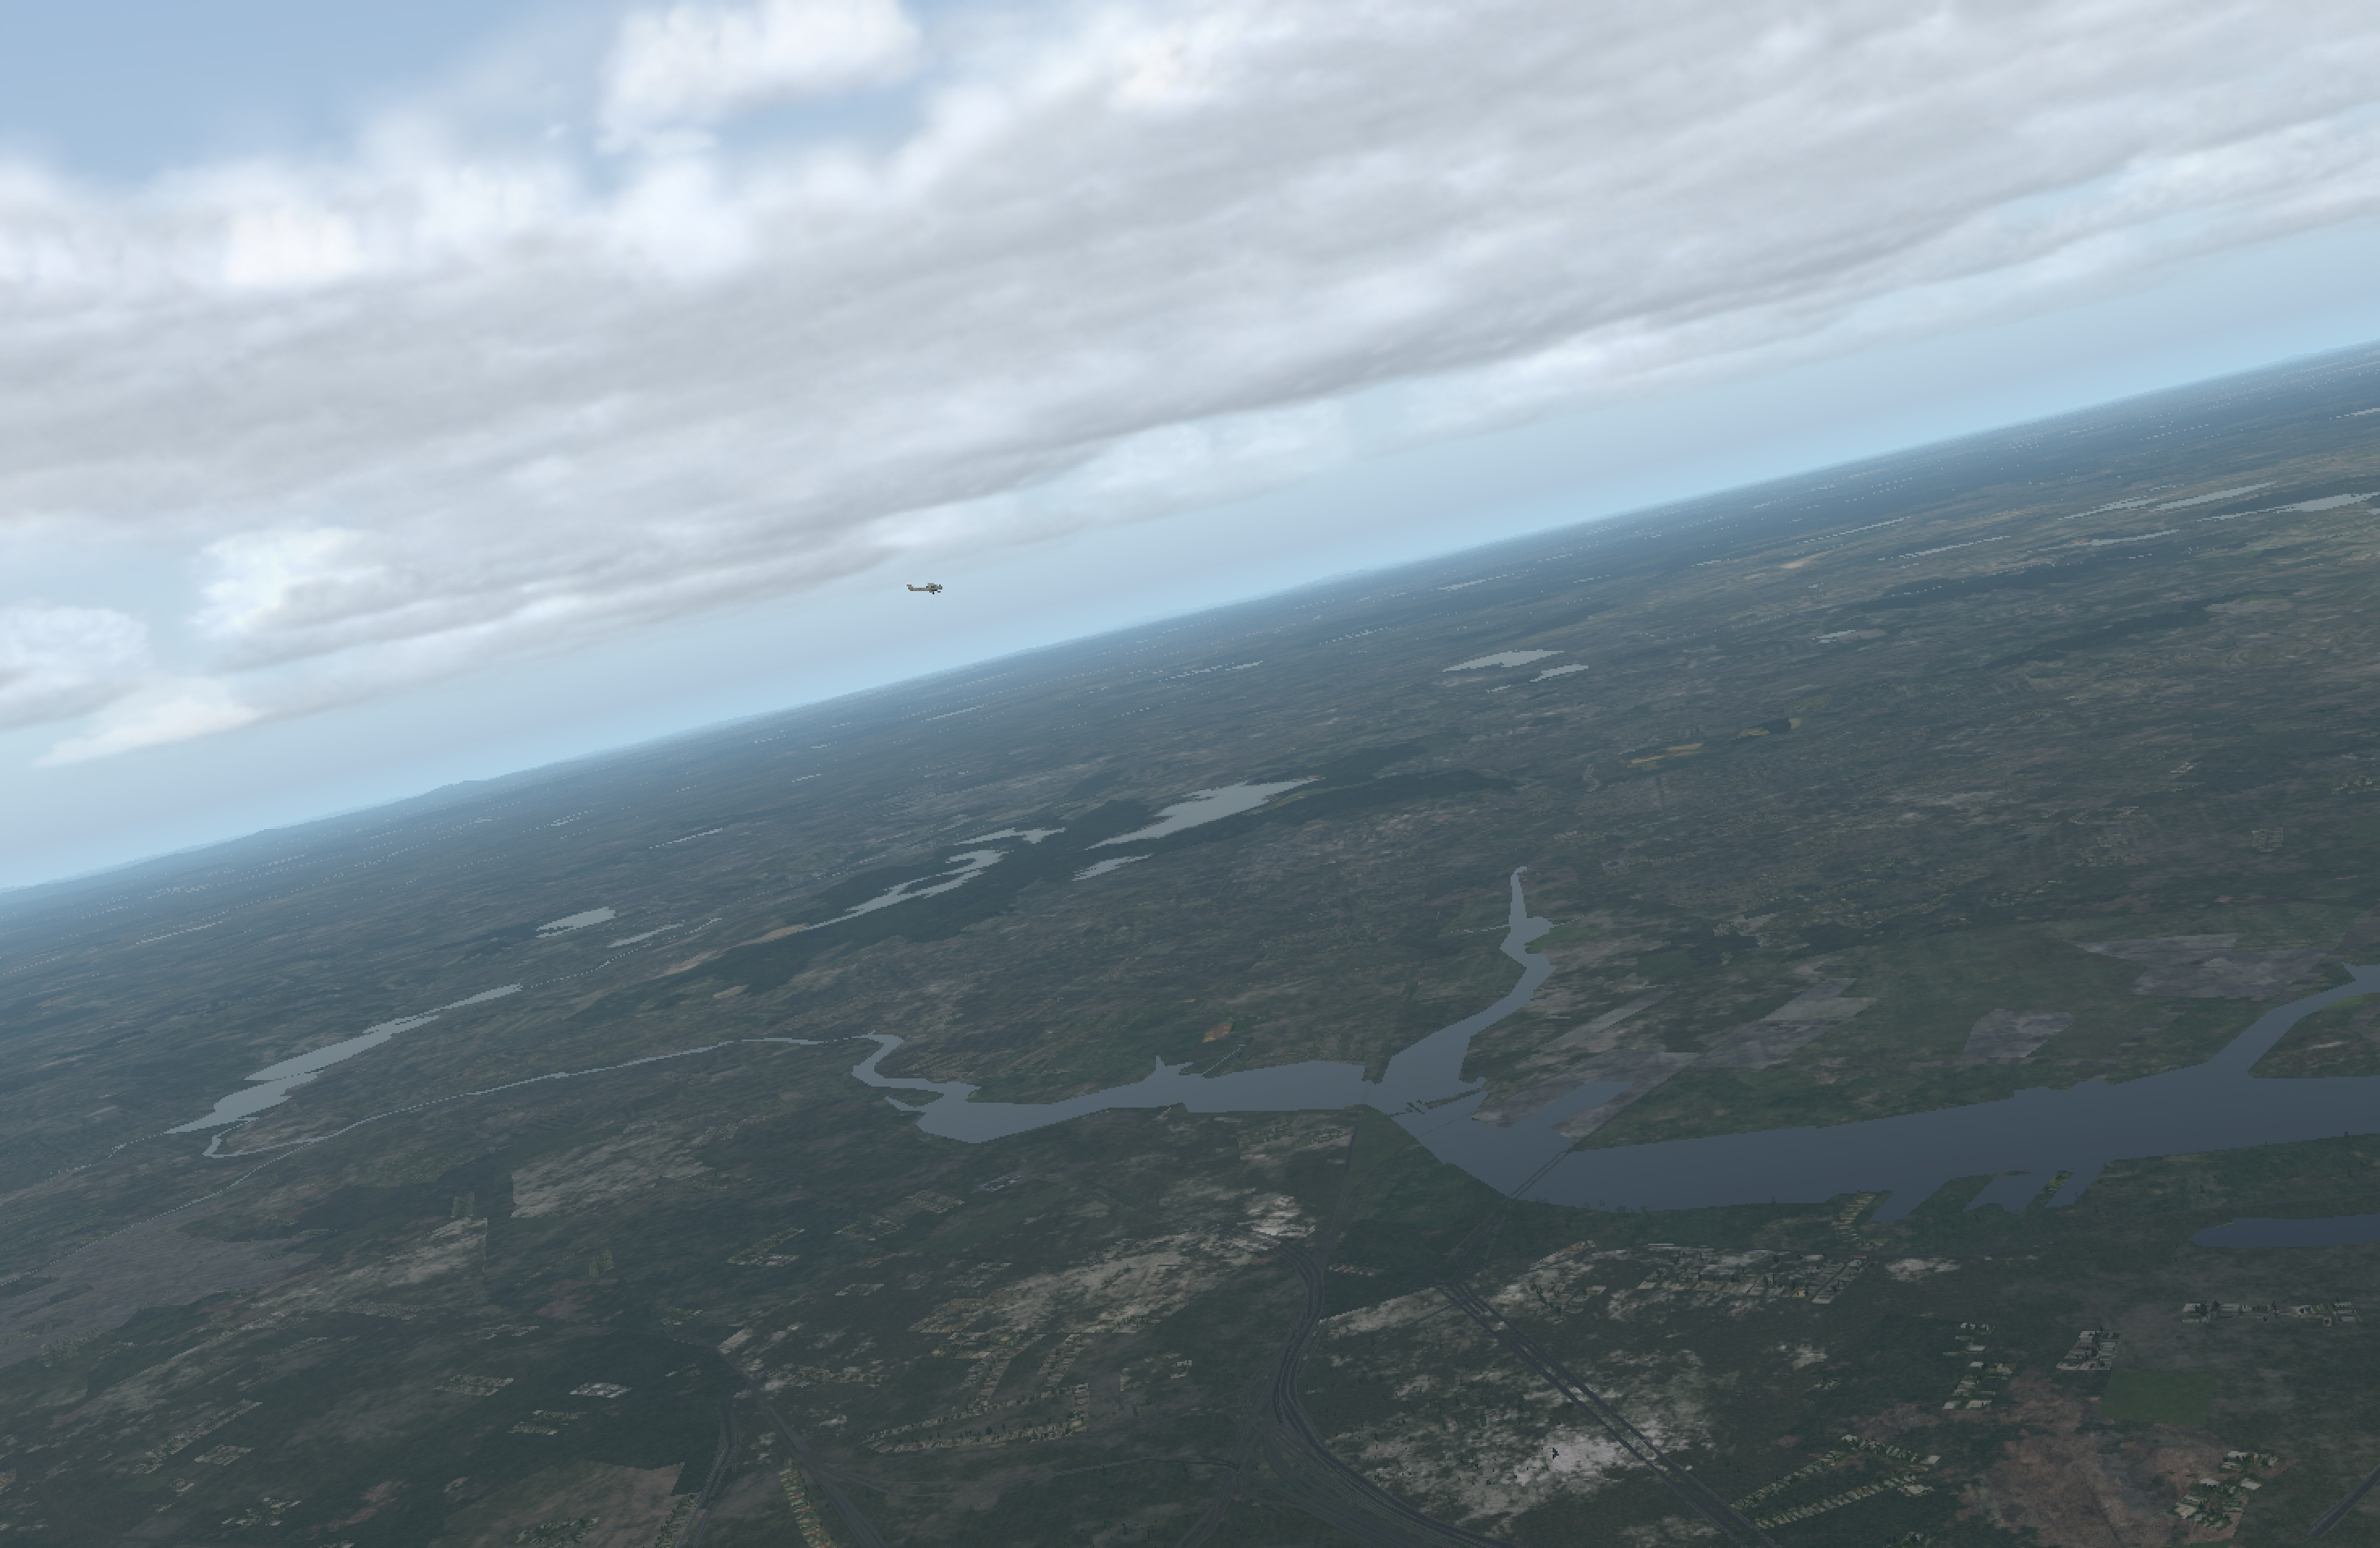aircraft: (916, 581, 951, 594)
